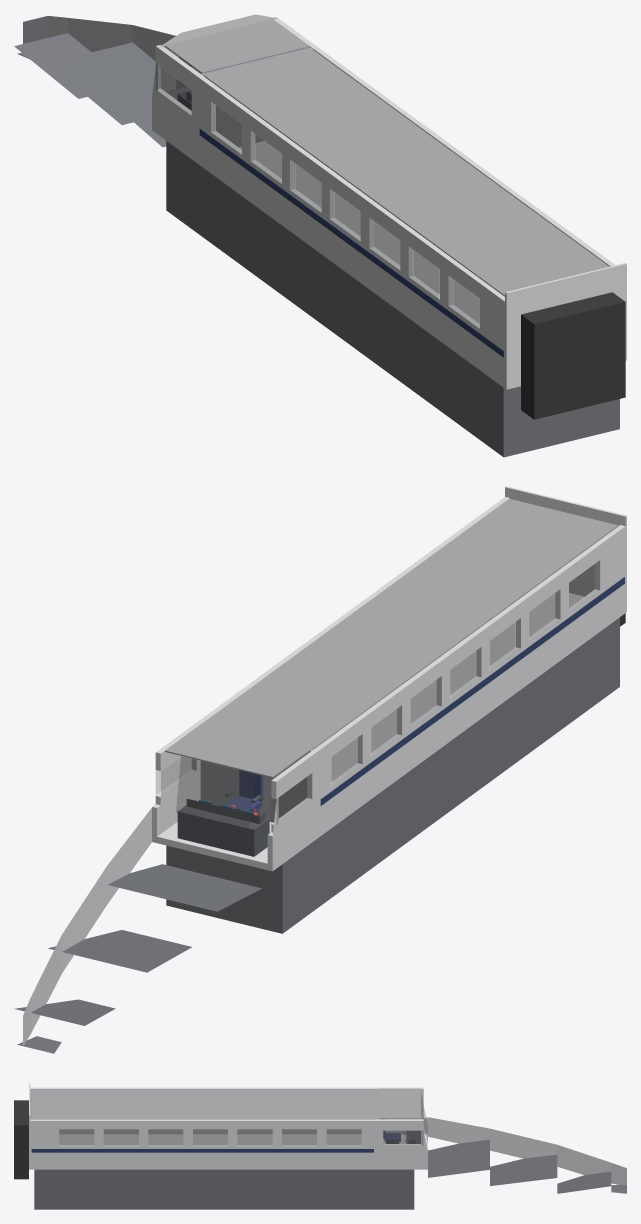
The model's file is tgv_procedural.glb.
The picture shows the model from 3 angles, top to bottom: view 1: azimuth 30°, elevation 25°; view 2: azimuth 150°, elevation 25°; view 3: azimuth 270°, elevation 25°; orthographic projection. The views are drawn at different scales.
Parts seen in each view (by area): view 1: TGV_motrice; view 2: TGV_motrice; view 3: TGV_motrice.
Part boxes in pixels (bbox=[...]): TGV_motrice: bbox=[14, 14, 626, 457]; TGV_motrice: bbox=[14, 486, 626, 1053]; TGV_motrice: bbox=[14, 1082, 626, 1209].
Size of the model in its own units: 2.92 by 3.87 by 22.7.
